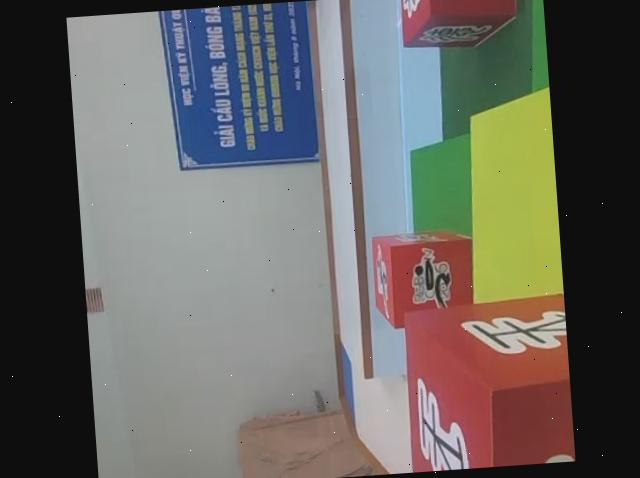R1: (367, 231, 477, 331)
R2 Fake: (398, 0, 525, 48)
R2 Real: (398, 292, 575, 472)
